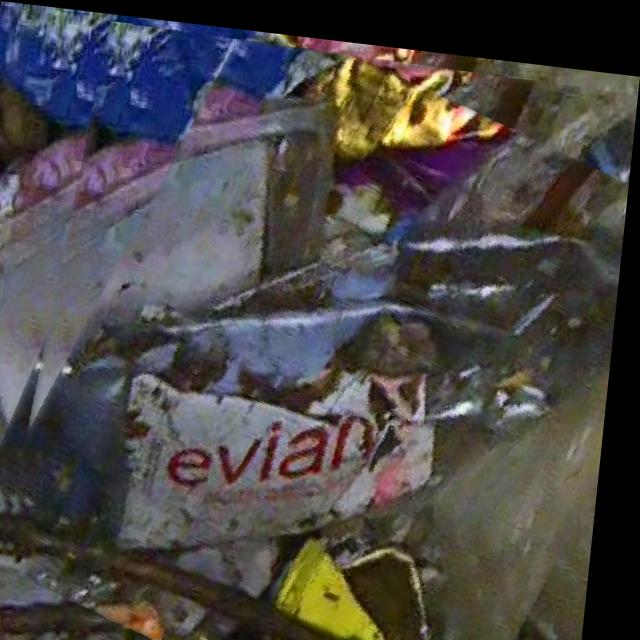plasticbottle: (0, 12, 639, 640)
